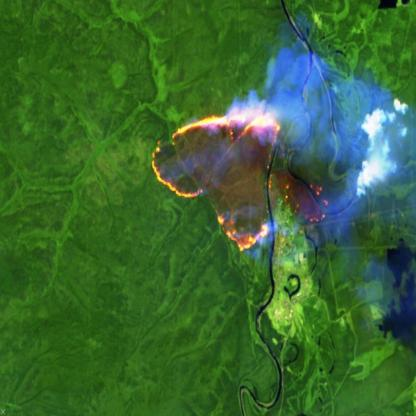fire: (148, 107, 332, 255)
